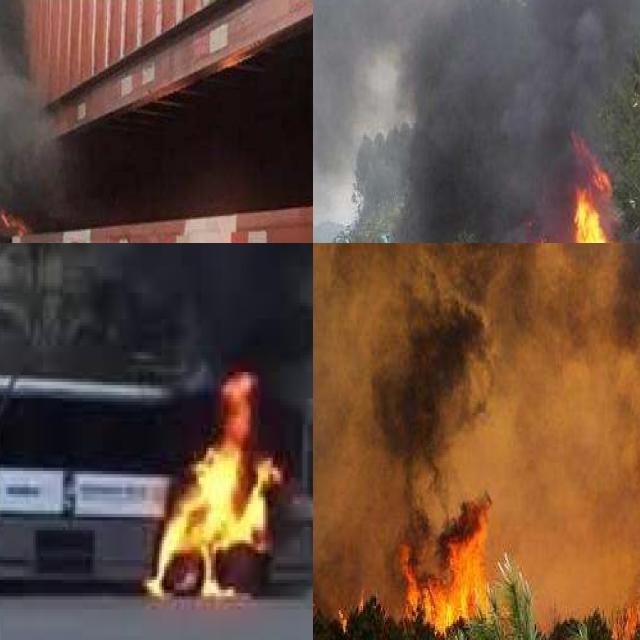fire: (137, 369, 300, 596), (313, 512, 500, 640)
smoke: (313, 243, 640, 550), (313, 0, 640, 168), (90, 243, 313, 362), (0, 25, 61, 236), (494, 220, 544, 243)
